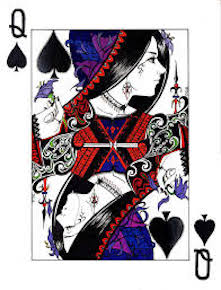QueenOfSpades: (5, 5, 220, 288)
